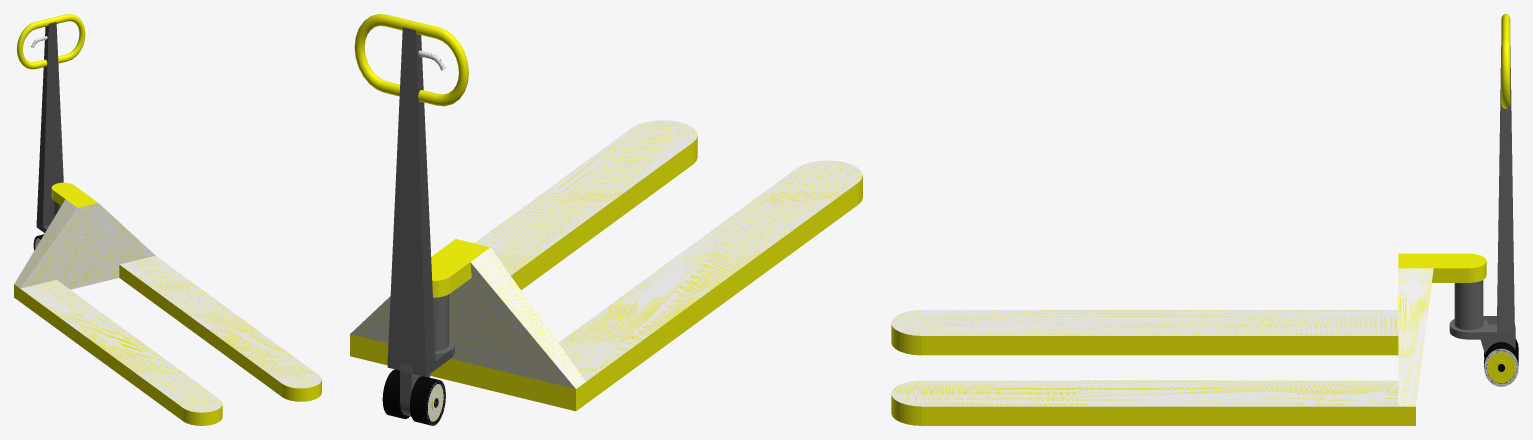
File: SmallJockey.dae
The picture shows the model from 3 angles, left to right: view 1: azimuth 30°, elevation 25°; view 2: azimuth 150°, elevation 25°; view 3: azimuth 270°, elevation 25°; orthographic projection. The views are drawn at different scales.
Parts seen in each view (by area): view 1: 组件_14 (×3), image_0; view 2: 组件_14 (×7); view 3: 组件_14 (×6).
Boxes of the visible parts, x1,y1,x2,y2 form: 组件_14 (×3): (14,14,321,425); image_0: (54,227,119,279); 组件_14 (×7): (350,14,862,425); 组件_14 (×6): (891,14,1518,425).
Size of the model in its own units: 21.27 by 58.45 by 36.
